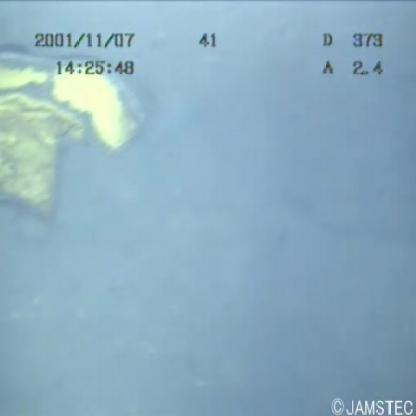Rác: (1, 38, 157, 250)
